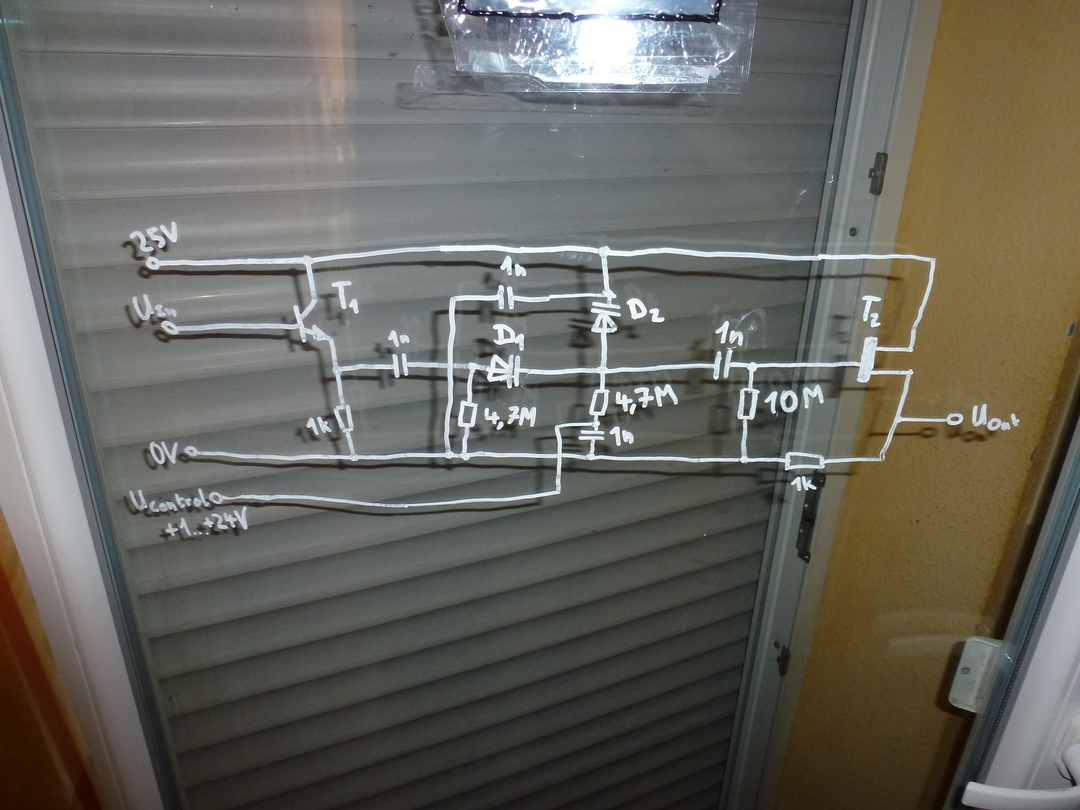capacitor.unpolarized: (709, 349, 736, 380), (388, 351, 412, 380), (495, 282, 517, 312), (578, 428, 606, 443)
crossover: (444, 359, 459, 373), (554, 451, 567, 462)
diode: (485, 353, 523, 391), (589, 300, 623, 337)
junction: (595, 243, 612, 260), (298, 253, 315, 268), (595, 363, 612, 378), (601, 287, 618, 299), (745, 360, 759, 374), (330, 363, 345, 376), (738, 453, 752, 466), (585, 450, 598, 464), (347, 451, 361, 463), (926, 254, 940, 266), (459, 450, 472, 462), (891, 412, 903, 425), (466, 360, 478, 372), (443, 449, 455, 461), (446, 293, 460, 303), (875, 453, 887, 464), (553, 487, 564, 497), (552, 423, 563, 432), (590, 419, 600, 428)
resistor: (783, 450, 828, 473), (735, 386, 761, 423), (332, 401, 357, 437), (456, 398, 480, 432), (587, 387, 612, 418)
terminal: (159, 320, 185, 337), (144, 255, 164, 271), (945, 411, 965, 427), (182, 444, 201, 458), (209, 491, 227, 505)
text: (164, 506, 249, 538), (127, 487, 209, 513), (614, 383, 679, 415), (763, 383, 825, 415), (129, 220, 179, 253), (970, 402, 1021, 432), (483, 404, 538, 431), (130, 292, 178, 321), (625, 296, 666, 326), (491, 322, 527, 353), (330, 279, 361, 315), (714, 319, 745, 348), (859, 293, 883, 329), (148, 440, 179, 466), (498, 254, 529, 277), (608, 424, 636, 448), (304, 415, 333, 437), (386, 328, 412, 349), (790, 474, 818, 493)
transistor: (854, 335, 919, 384), (290, 295, 337, 345)
